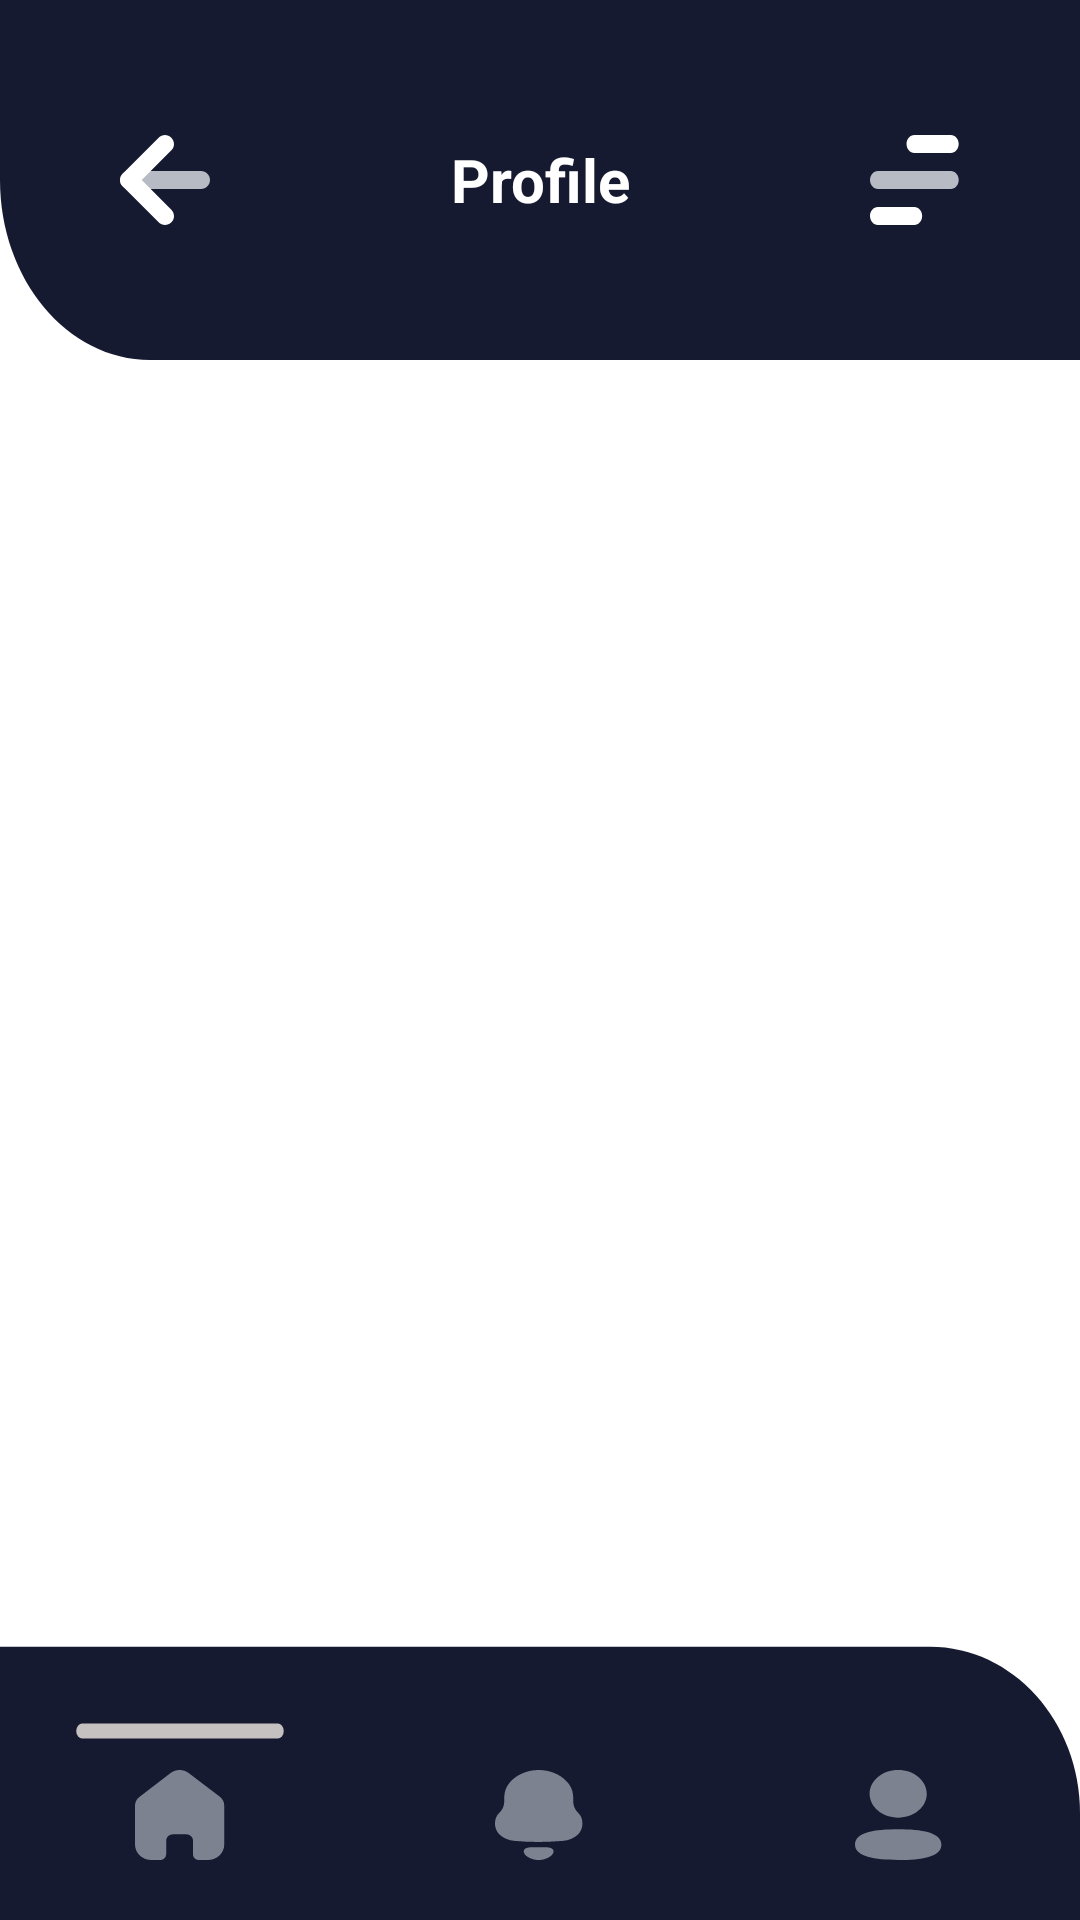

Where icons sit on this 1080px×1920px app screen, as (x1, y1, x2, y2):
backarrow: (120, 135, 210, 225)
home: (135, 1770, 225, 1860)
menu: (870, 135, 959, 225)
notification: (495, 1770, 583, 1860)
profile: (855, 1770, 942, 1860)
